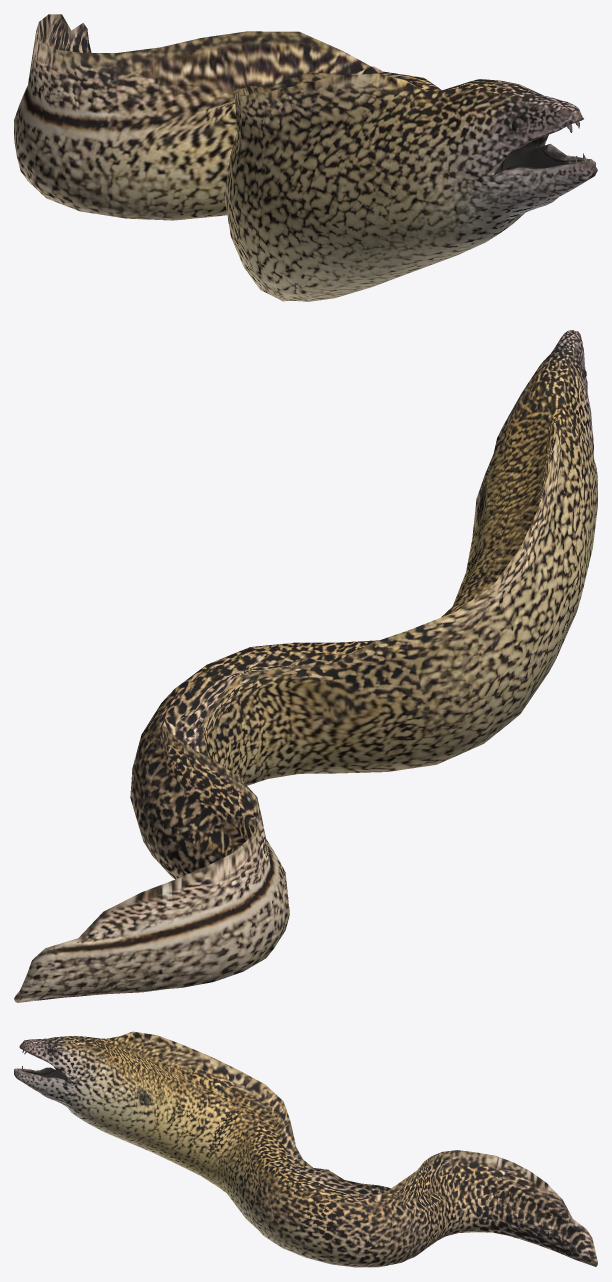
The model's file is murene.glb.
3 renders of one model, top to bottom at view 1: azimuth 30°, elevation 25°; view 2: azimuth 150°, elevation 25°; view 3: azimuth 270°, elevation 25°, orthographic. The views are drawn at different scales.
Parts seen in each view (by area): view 1: tripo_node_772f4b14-226b-40ef-8b96-b355b38b2817; view 2: tripo_node_772f4b14-226b-40ef-8b96-b355b38b2817; view 3: tripo_node_772f4b14-226b-40ef-8b96-b355b38b2817.
Part boxes in pixels (left/top/right/bottom): tripo_node_772f4b14-226b-40ef-8b96-b355b38b2817: left=14, top=14, right=597, bottom=301; tripo_node_772f4b14-226b-40ef-8b96-b355b38b2817: left=14, top=330, right=597, bottom=1002; tripo_node_772f4b14-226b-40ef-8b96-b355b38b2817: left=14, top=1031, right=597, bottom=1267.
Size of the model in its own units: 1.04 by 1.2 by 3.11.
Materials: 1 (1 with a texture image).
